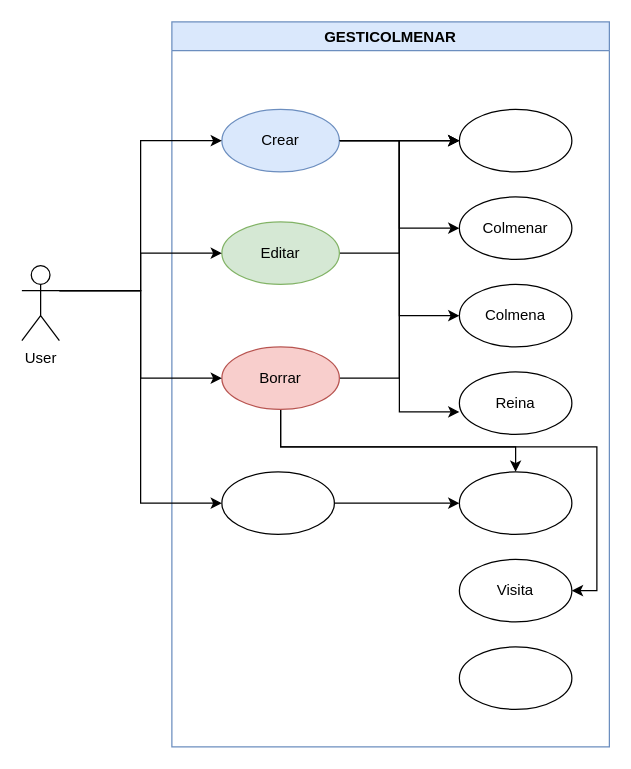
The diagram is 631 pixels wide and 769 high, and some of its shapes have lost their labels. The box of each missing label's shape, as (x1, y1, x2, y2) in pixels:
Enfermedad: (458, 471, 572, 534)
Productos: (458, 646, 572, 709)
Registrar: (221, 471, 334, 534)
Ubicación: (458, 108, 572, 172)
